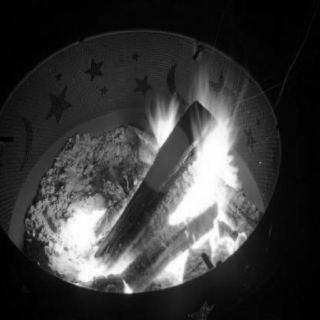Fire: (146, 92, 252, 242)
